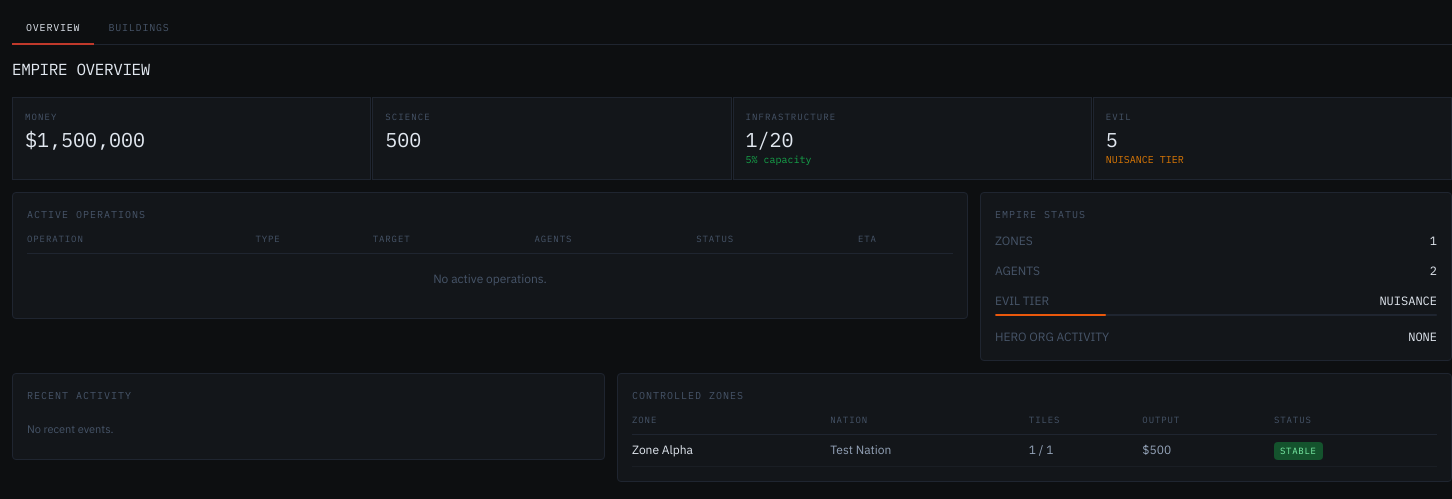
EmpireScreen › filters buildings by search text
Click the button "BUILDINGS": (139, 28) [94,12,184,45]
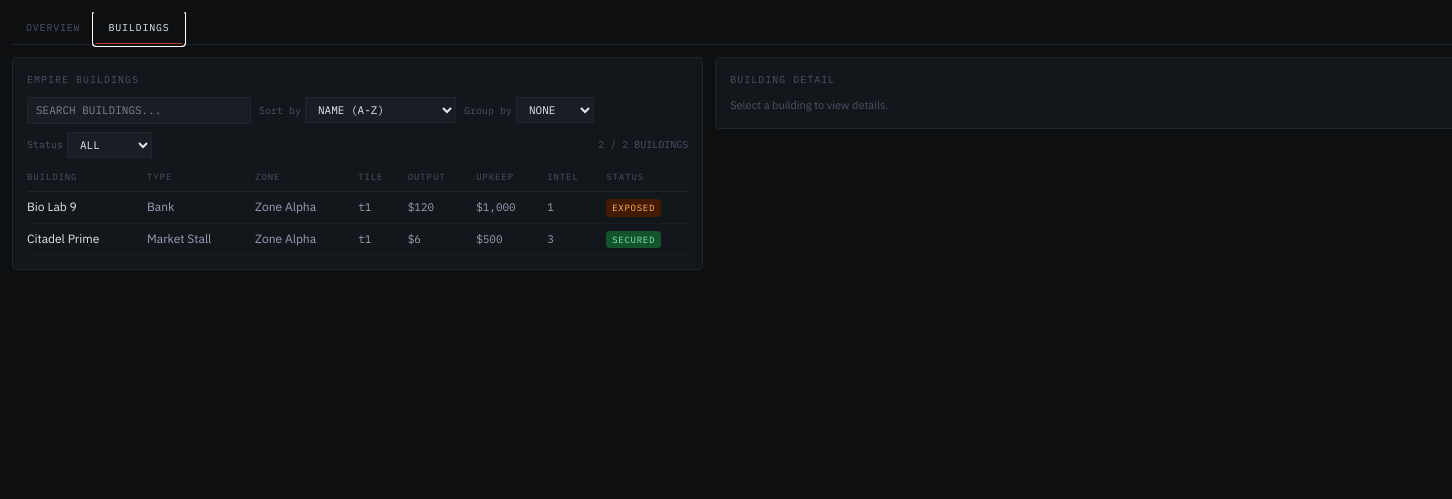
In the field with placeholder "SEARCH BUILDINGS...": (139, 110) [27,97,251,124], type "bio"
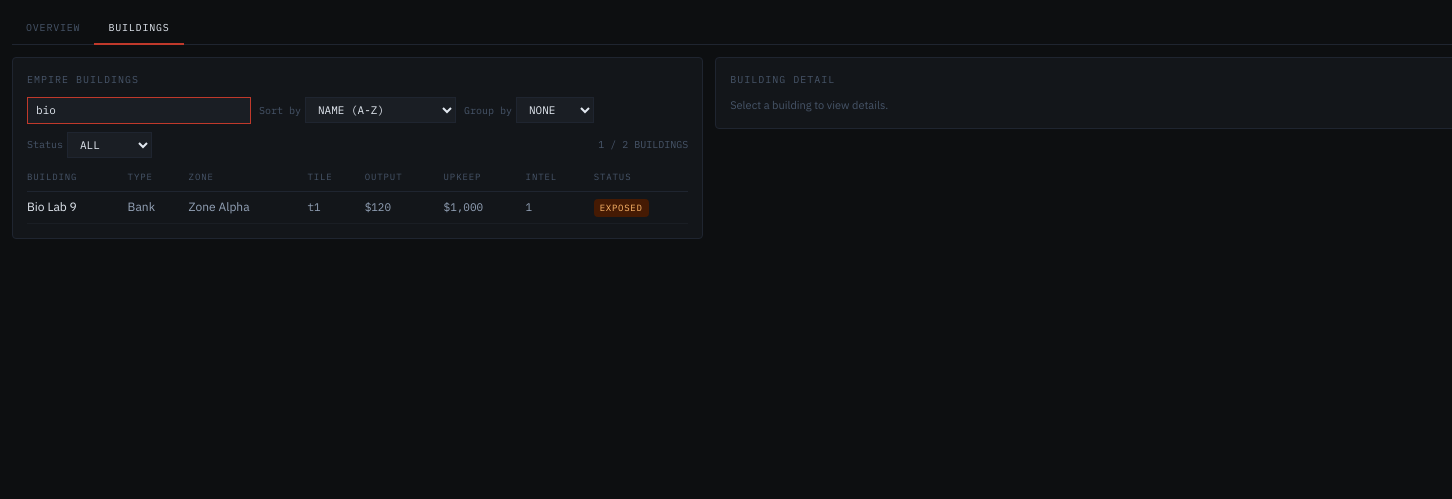
Result: the text "Bio Lab 9" is shown at [27,192,128,223]
Result: the button "Citadel Prime" is gone
